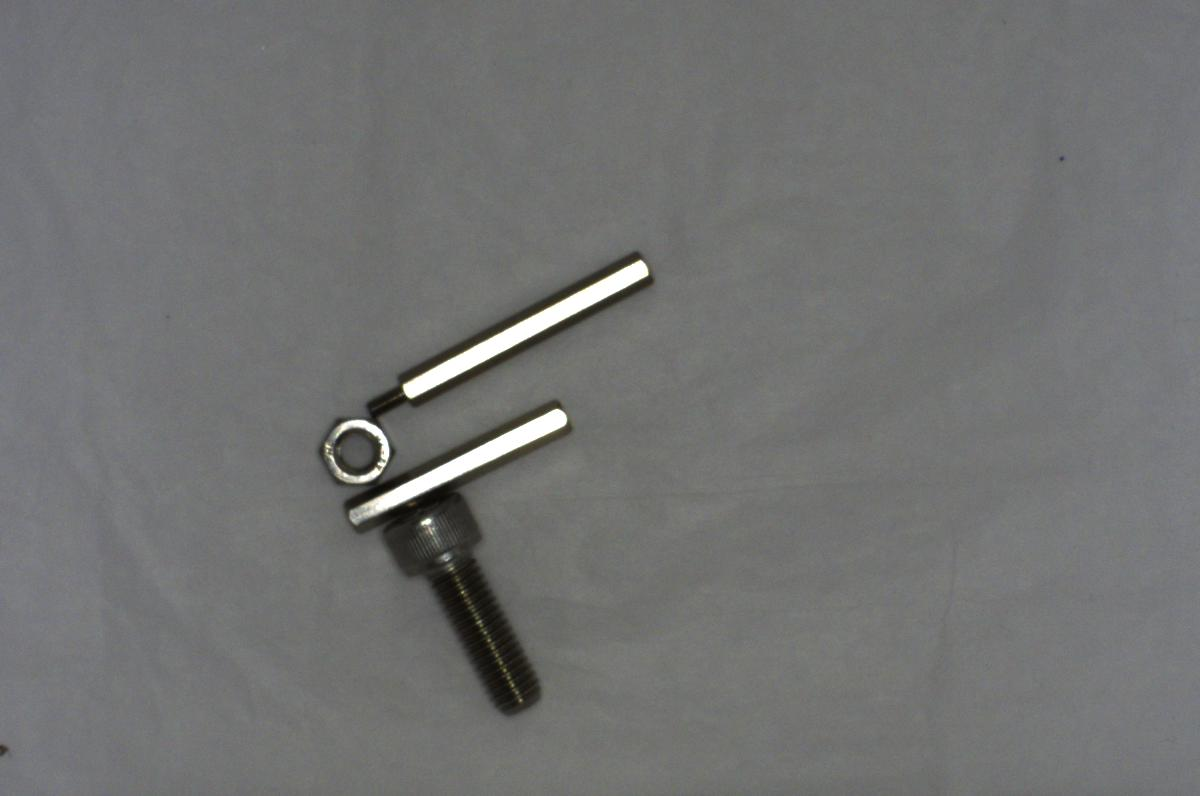Double hexagonal column: (344, 402, 568, 532)
Hexagon nut: (321, 407, 393, 485)
Hexagon screw: (394, 493, 550, 716)
Hexagonal steel column: (362, 249, 668, 422)
